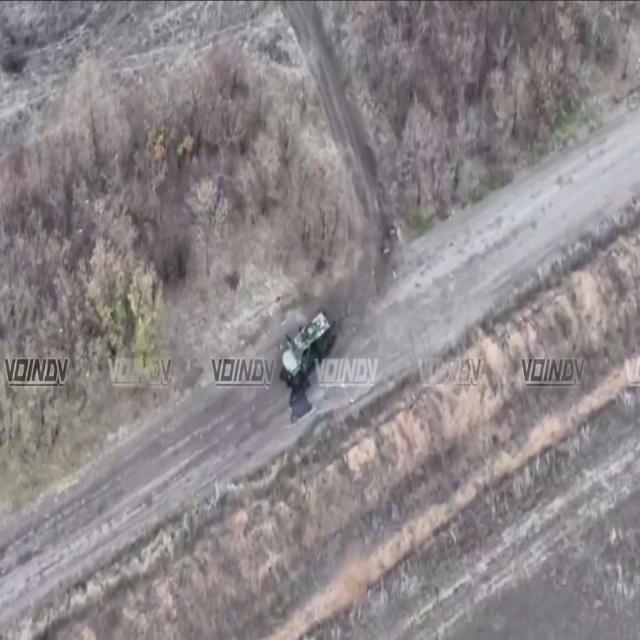vehicle: (267, 292, 349, 396)
